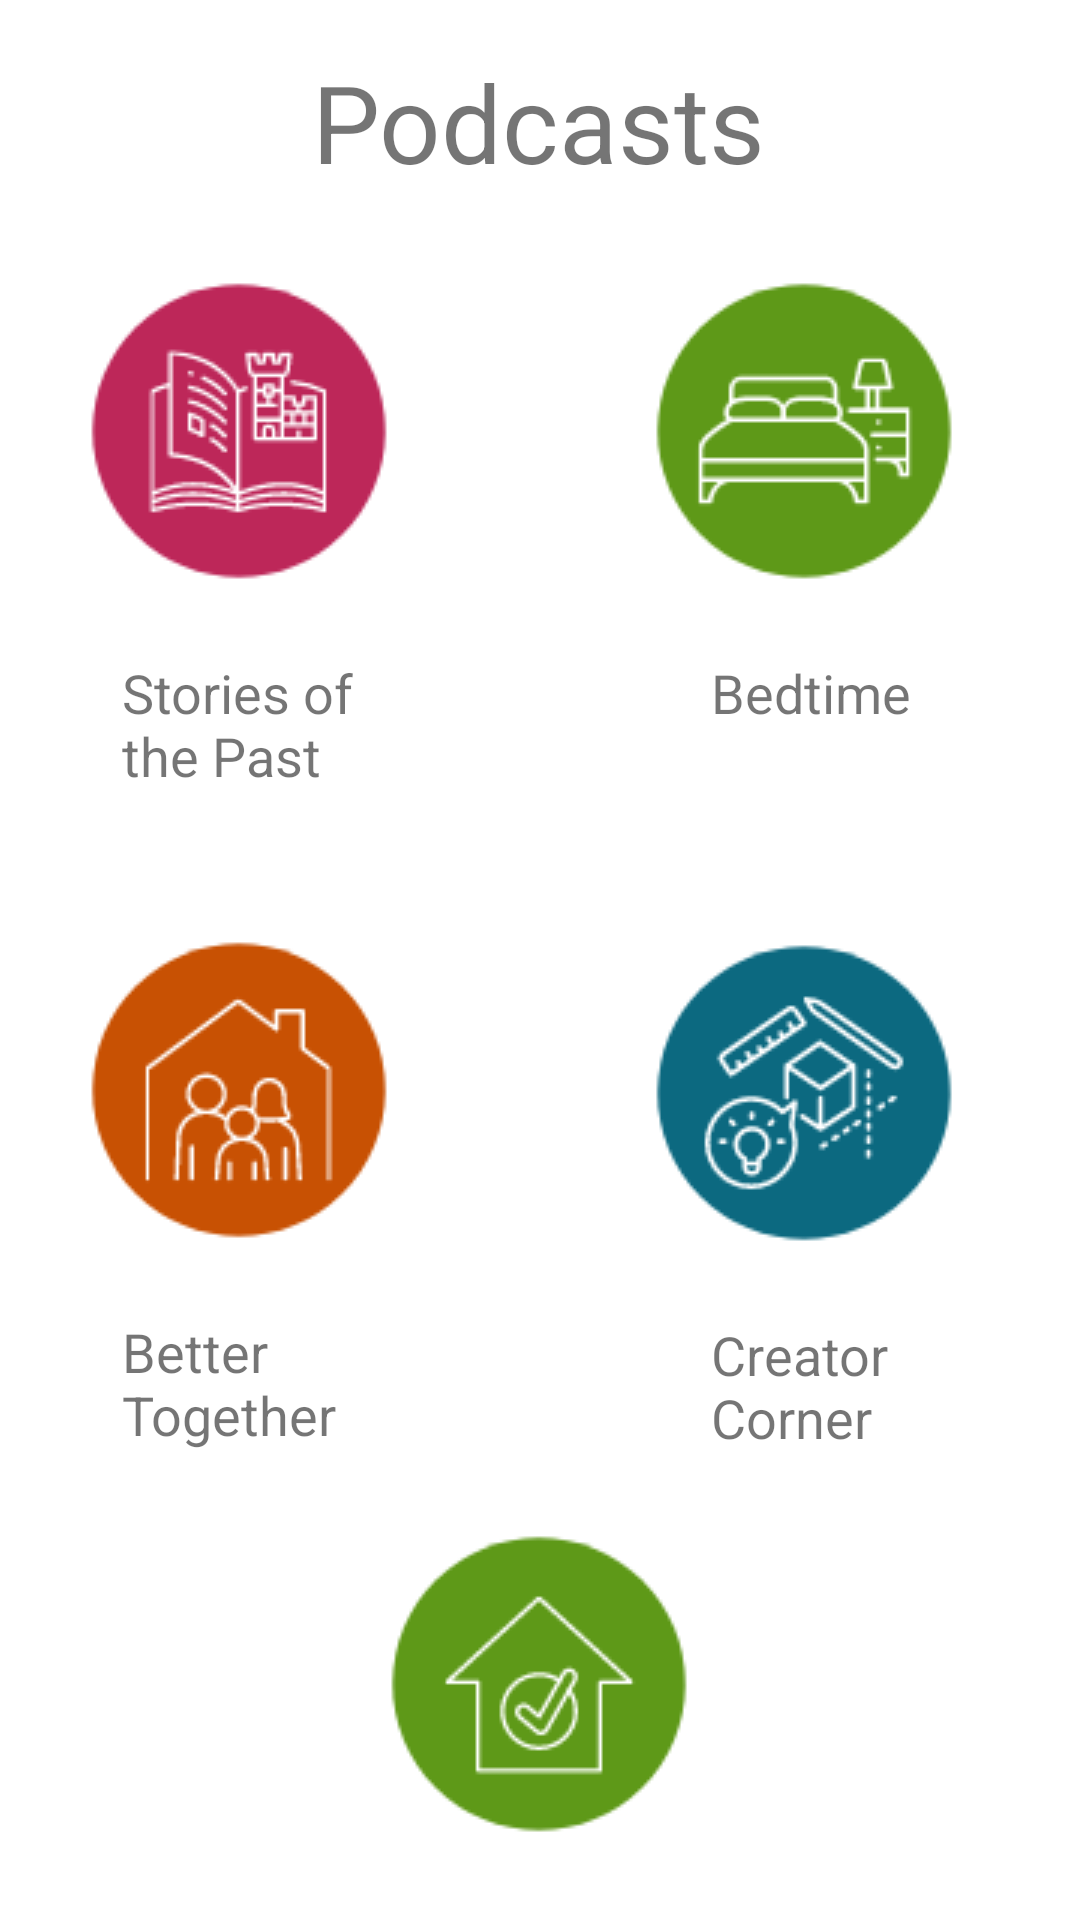

Point at icon controls on the screen. Image size 1080w x 1920h, points as (x=x, y=y).
homebutton: (x=539, y=1684)
